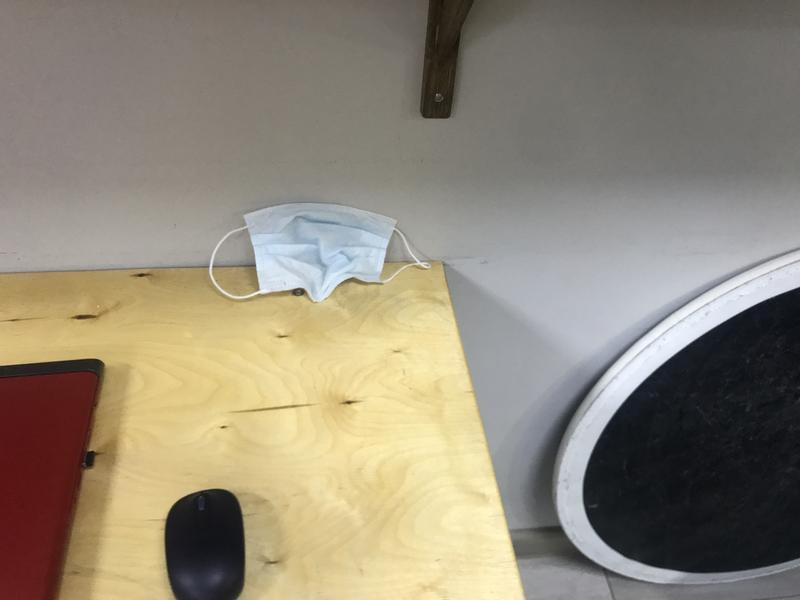medical_mask: (210, 205, 430, 306)
